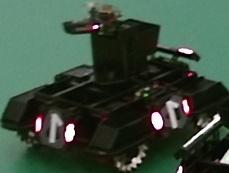armor_1: (152, 100, 190, 129), (35, 117, 76, 142)
front_1: (41, 109, 66, 149)
left_1: (160, 94, 188, 129)
